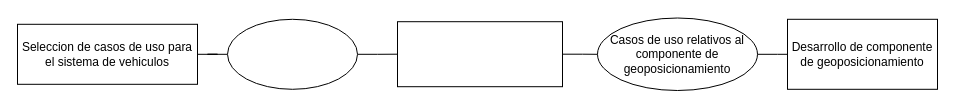
This 955x108 diagram has some shape labels left out. Here are the shapes that lost their labels. From the top down, the centre of each, then its label:
(x=292, y=53): Casos de uso relativos al sistema de vehiculos
(x=479, y=54): Selección de casos de uso para el componente de geoposicionamiento
